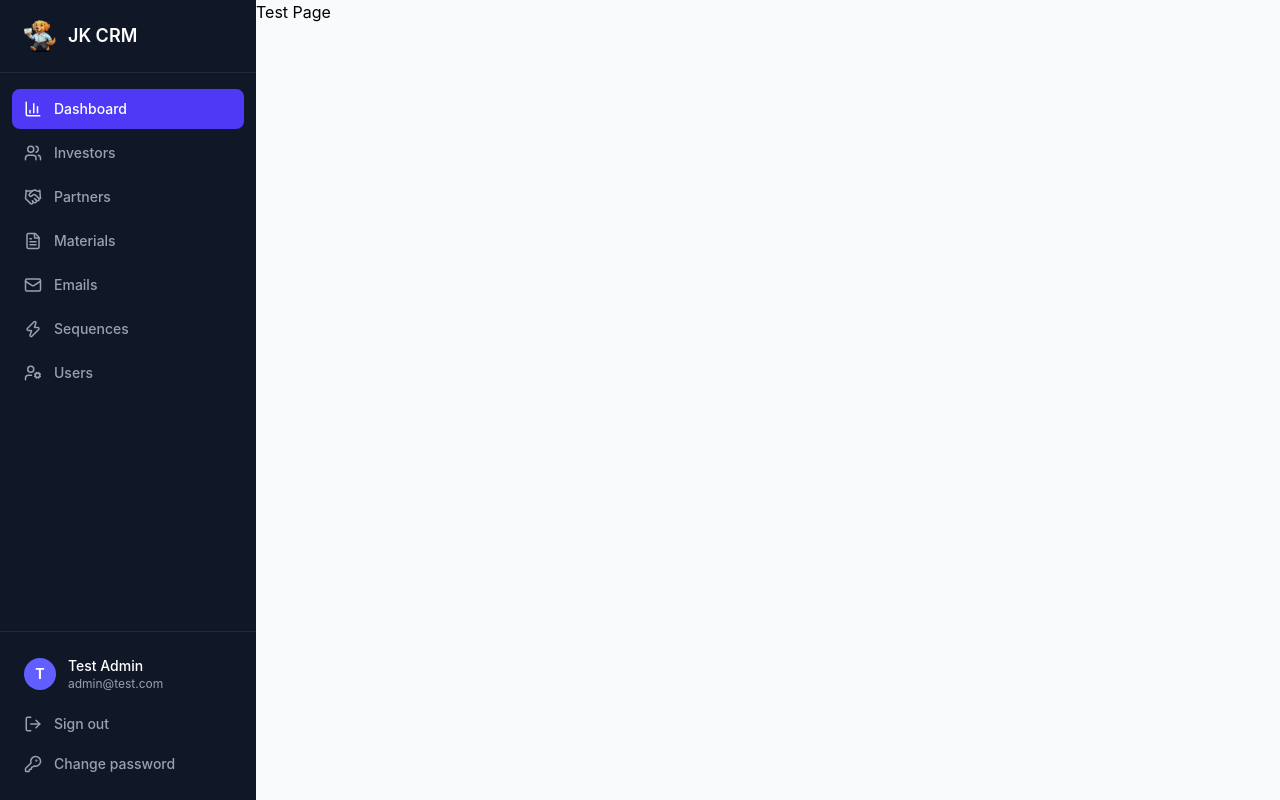
AppLayout › opens the Change Password modal when its button is clicked
What coordinates should you click on to do the following:
click the button "Change password"
I would click on:
 (128, 764)
Its box is x1=12 y1=744 x2=244 y2=784.
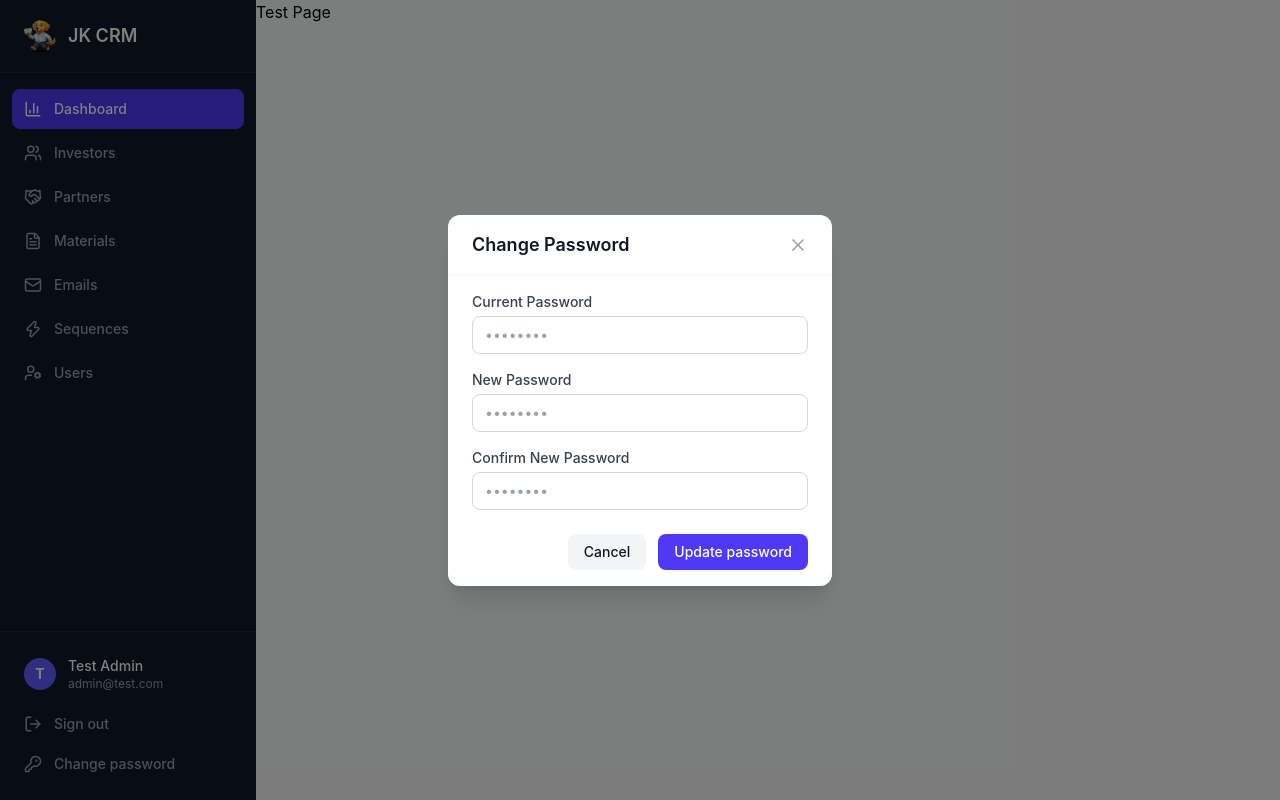
Expected: the heading "Change Password" is shown, x1=472 y1=230 x2=629 y2=258
